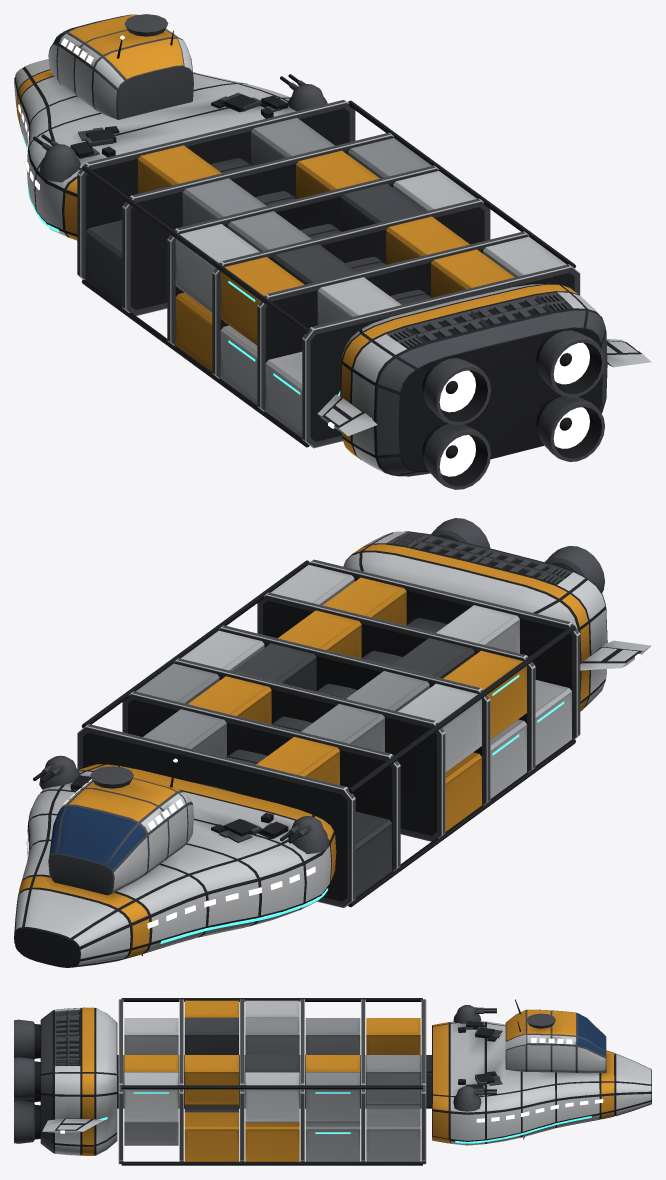
File: ship_drover.glb
3 renders of one model, top to bottom at view 1: azimuth 30°, elevation 25°; view 2: azimuth 150°, elevation 25°; view 3: azimuth 270°, elevation 25°, orthographic. The views are drawn at different scales.
Parts seen in each view (by area): view 1: ship_drover_mesh; view 2: ship_drover_mesh; view 3: ship_drover_mesh.
Boxes of the visible parts, bbox=[...] form: ship_drover_mesh: bbox=[14, 14, 651, 489]; ship_drover_mesh: bbox=[14, 518, 651, 967]; ship_drover_mesh: bbox=[14, 996, 651, 1165].
Bounding box in the file's own units: 16.3 × 10.03 × 43.2.
